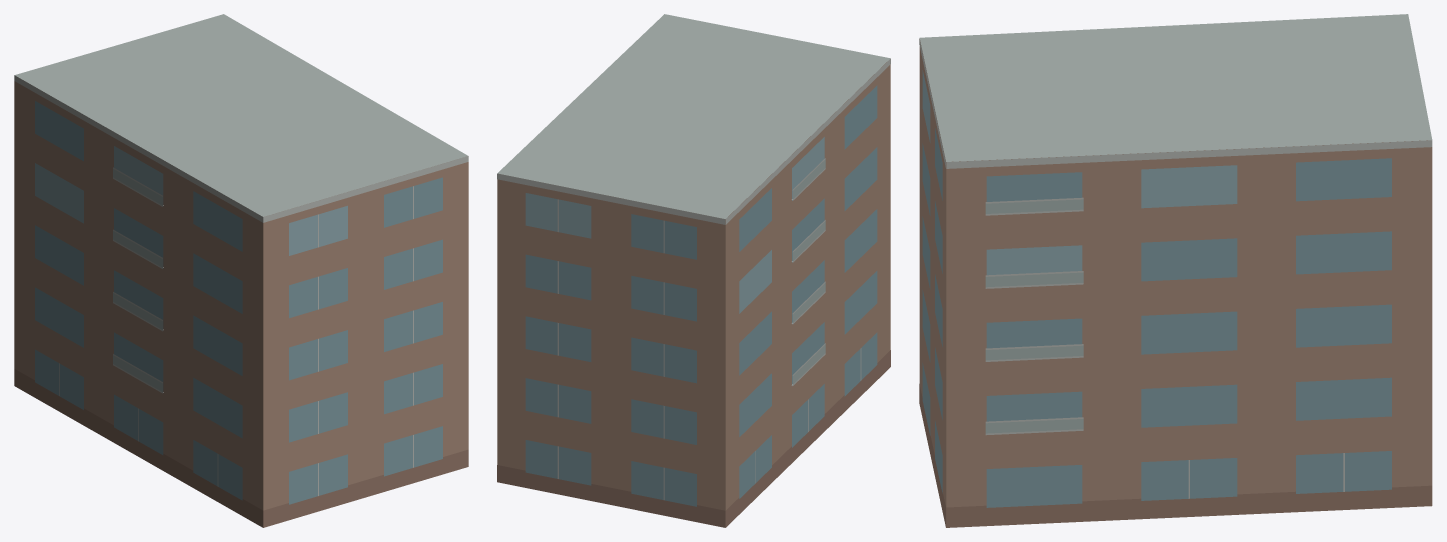
File: survey-upis-32641020.glb
3 renders of one model, left to right at view 1: azimuth 30°, elevation 25°; view 2: azimuth 150°, elevation 25°; view 3: azimuth 270°, elevation 25°, orthographic. The views are drawn at different scales.
Parts seen in each view (by area): view 1: survey-upis-32641020.tmp; view 2: survey-upis-32641020.tmp; view 3: survey-upis-32641020.tmp.
Part boxes in pixels (box(x1,y1,x2,y2)): survey-upis-32641020.tmp: box(14, 14, 468, 527); survey-upis-32641020.tmp: box(497, 14, 890, 527); survey-upis-32641020.tmp: box(919, 14, 1432, 527).
Bounding box in the file's own units: 11.2 × 12.9 × 16.4.
